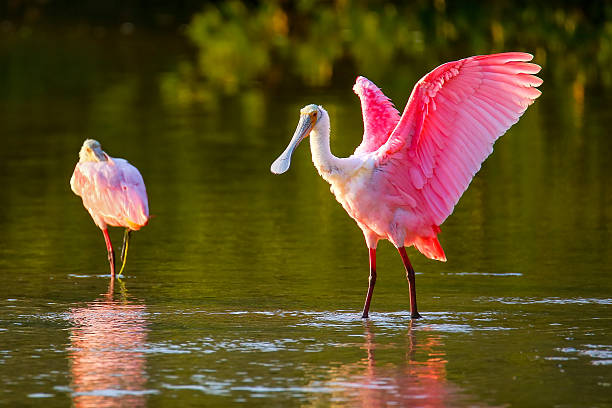Bird: (264, 47, 544, 322), (65, 132, 154, 298)
